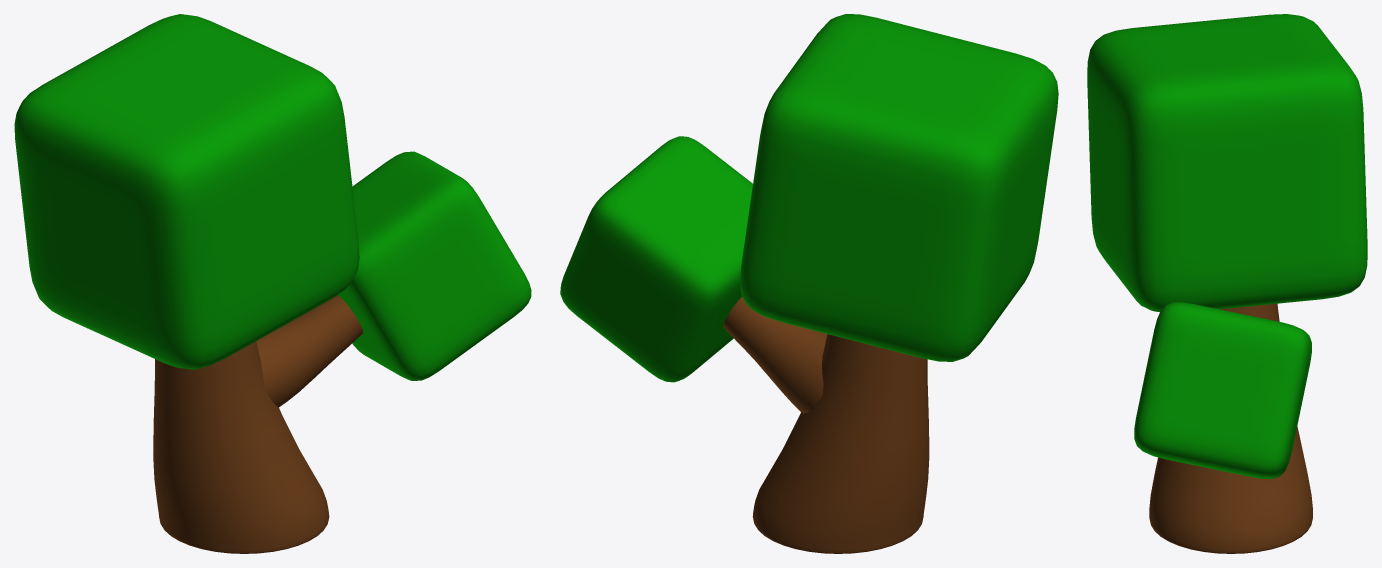
The model's file is hi_tree.fbx.
3 views of the same model, side by side, from view 1: azimuth 30°, elevation 25°; view 2: azimuth 150°, elevation 25°; view 3: azimuth 270°, elevation 25° (orthographic). The views are drawn at different scales.
Visible parts, largest first — view 1: Box001_hight, Cylinder003_hight; view 2: Box001_hight, Cylinder003_hight; view 3: Box001_hight, Cylinder003_hight.
Boxes of the visible parts, left/top/right/bottom form: Box001_hight: left=14, top=14, right=531, bottom=380; Cylinder003_hight: left=153, top=295, right=362, bottom=553; Box001_hight: left=560, top=14, right=1058, bottom=382; Cylinder003_hight: left=723, top=296, right=929, bottom=553; Box001_hight: left=1087, top=14, right=1367, bottom=478; Cylinder003_hight: left=1149, top=303, right=1312, bottom=553.
Bounding box in the file's own units: 133 × 132 × 74.99.
